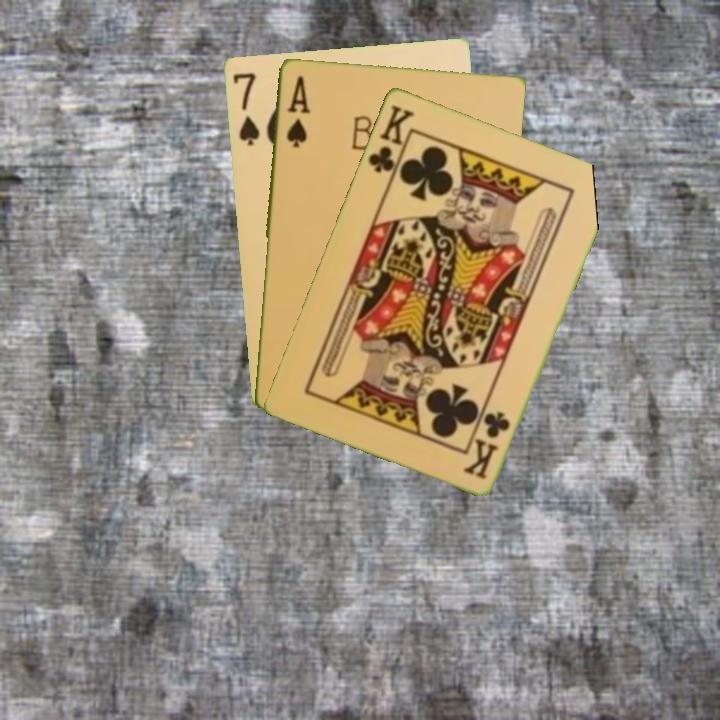7s: (229, 68, 262, 148)
As: (283, 71, 313, 150)
Kc: (364, 100, 417, 184), (461, 407, 513, 482)
